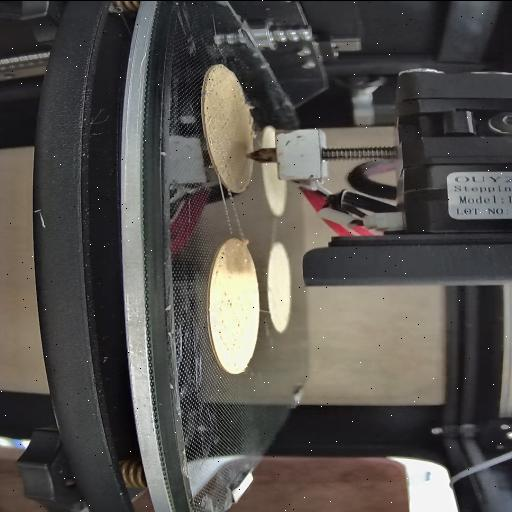under_extrusion: (215, 251, 239, 355), (202, 64, 231, 130), (220, 161, 232, 169)
